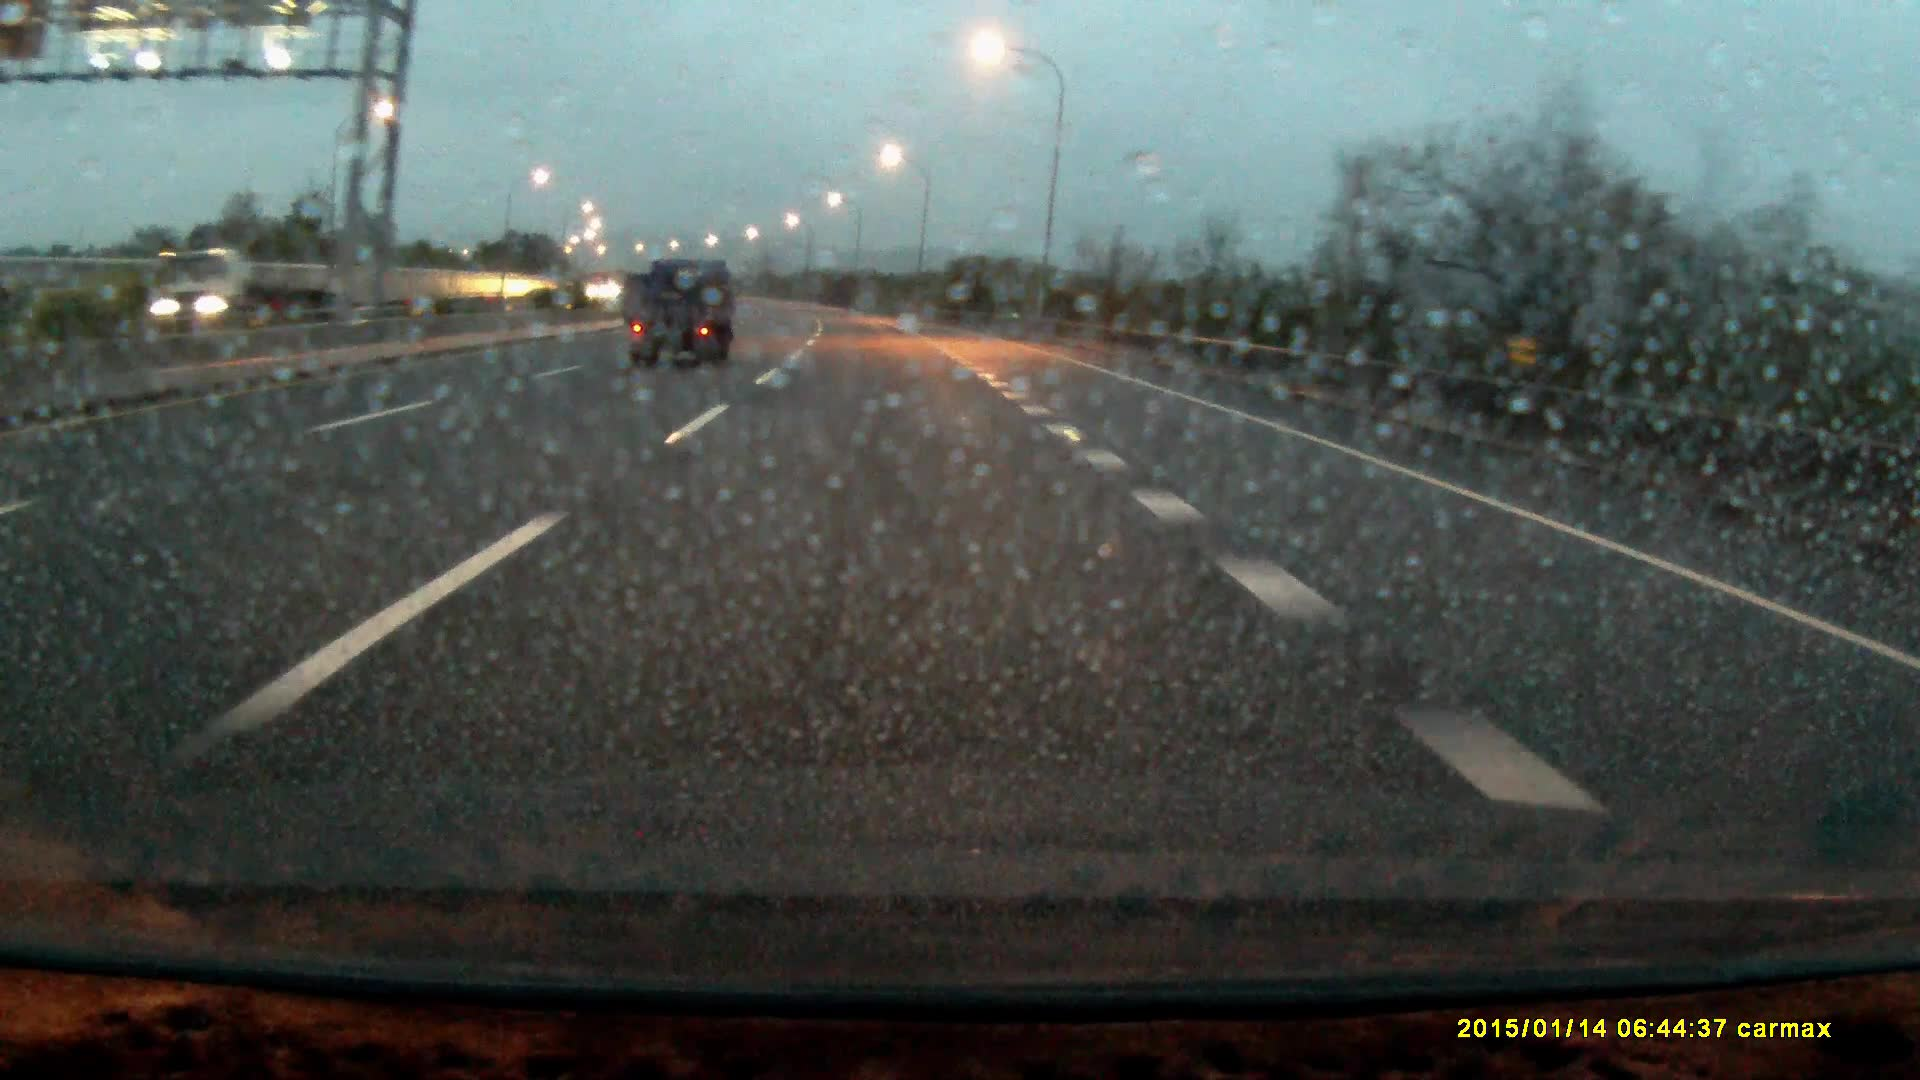vehicle: (132, 251, 318, 324), (629, 262, 738, 375)
